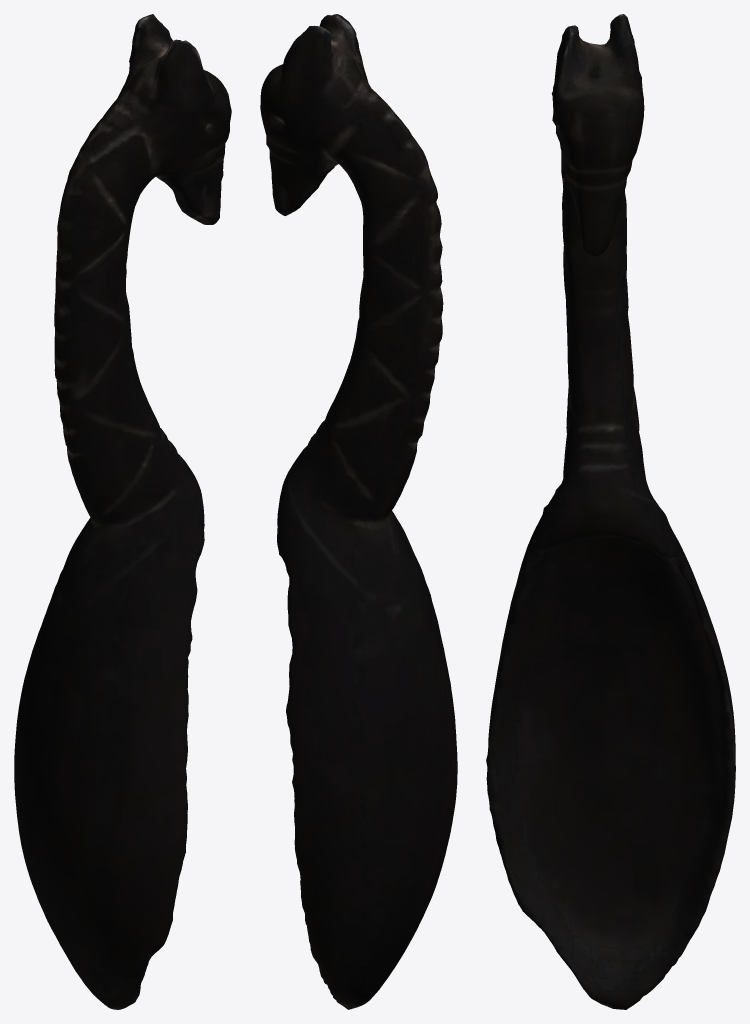
The model's file is preview.glb.
The picture shows the model from 3 angles, left to right: view 1: azimuth 30°, elevation 25°; view 2: azimuth 150°, elevation 25°; view 3: azimuth 270°, elevation 25°; orthographic projection. The views are drawn at different scales.
Parts seen in each view (by area): view 1: Object_2; view 2: Object_2; view 3: Object_2.
Boxes of the visible parts, x1,y1,x2,y2 form: Object_2: (14,14,231,1009); Object_2: (260,14,457,1009); Object_2: (486,14,735,1009).
Bounding box in the file's own units: 67.49 × 347 × 77.83.
1 material, 1 textured.
